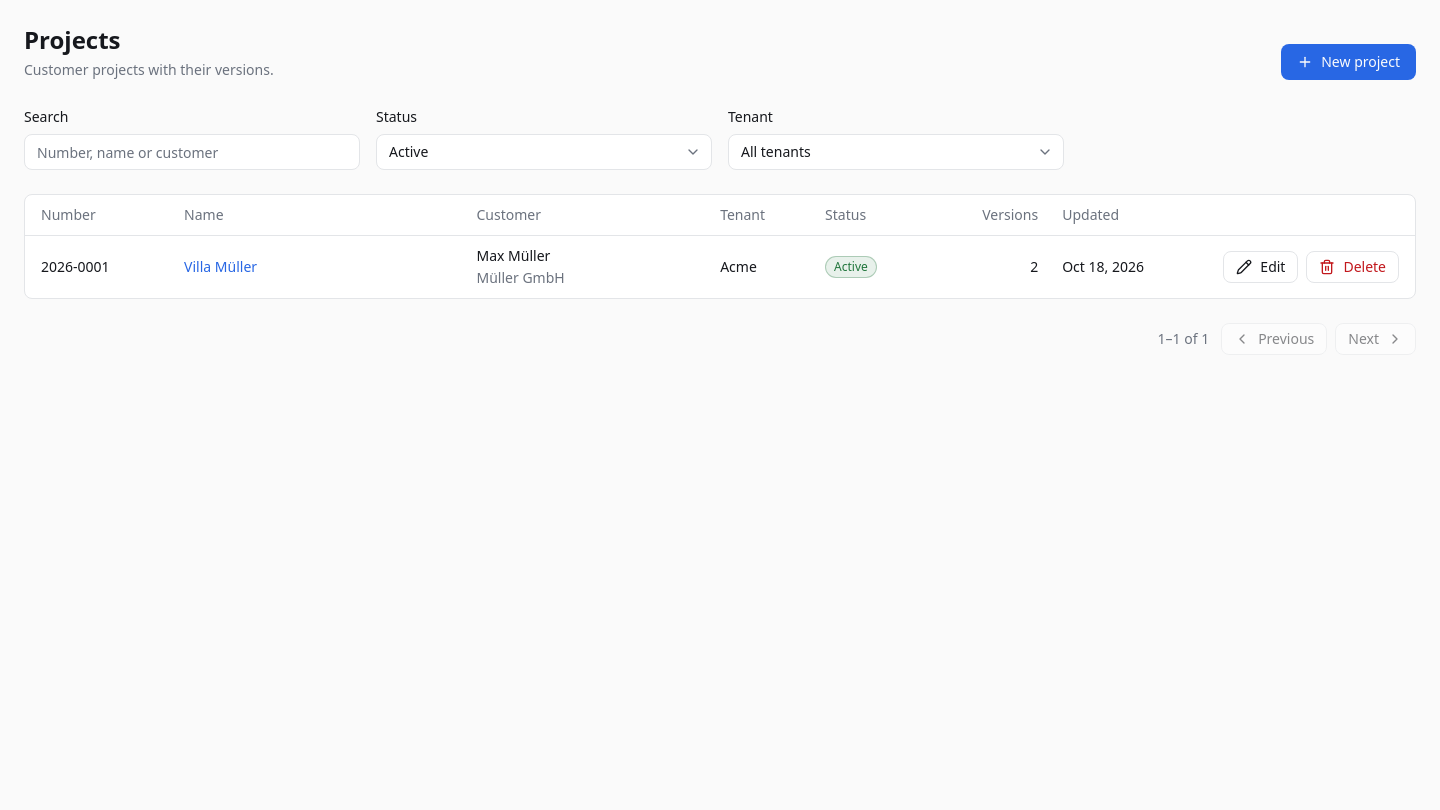
ProjectsPage › deletes a project after asking
Click the button "Delete".
click(1353, 267)  # box [1306,251,1399,283]
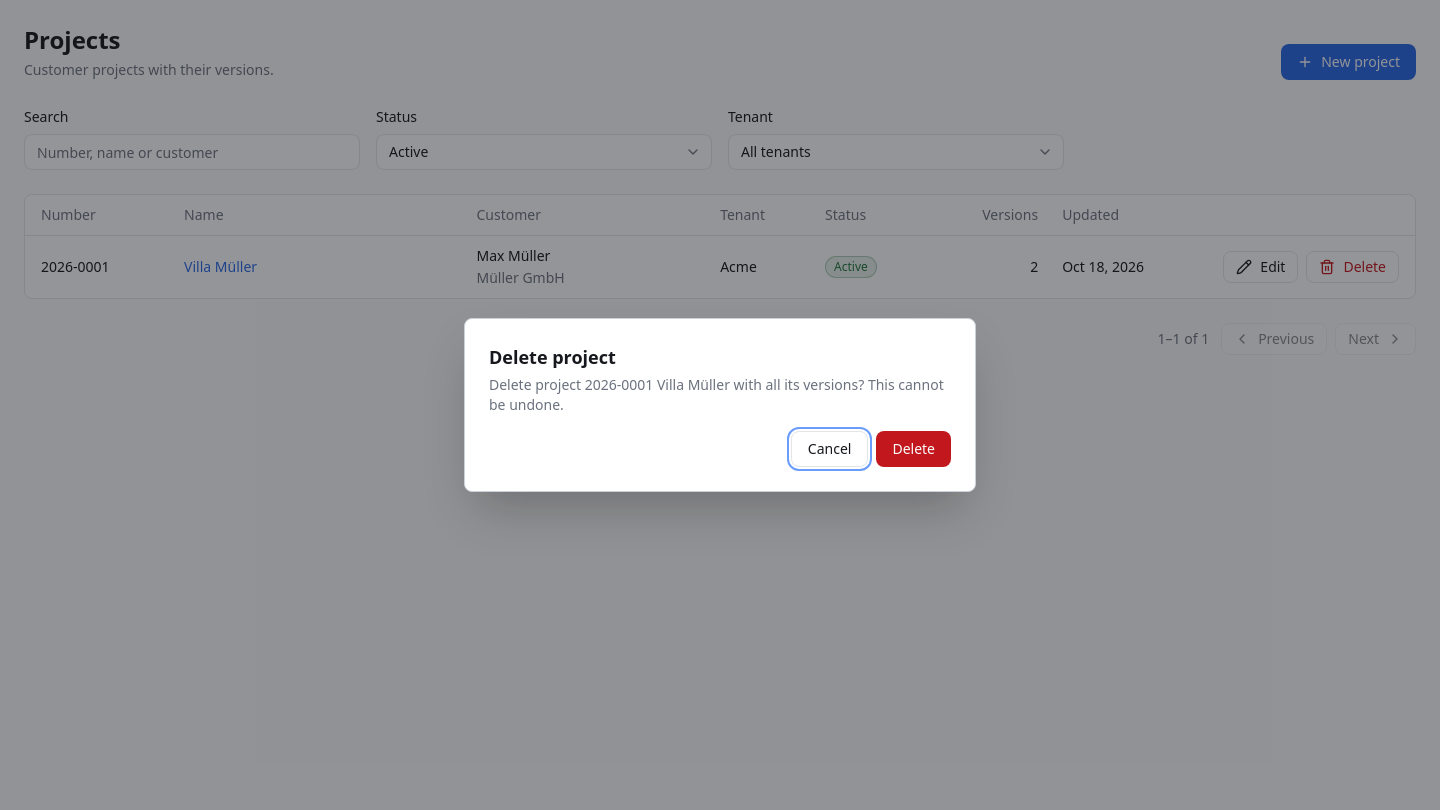
Result: the dialog "Delete project" shows "Delete project 2026-0001 Villa Müller with all its versions?" at [489,375,944,414]
Click the button "Delete".
click(914, 449)  # box [876,431,951,467]
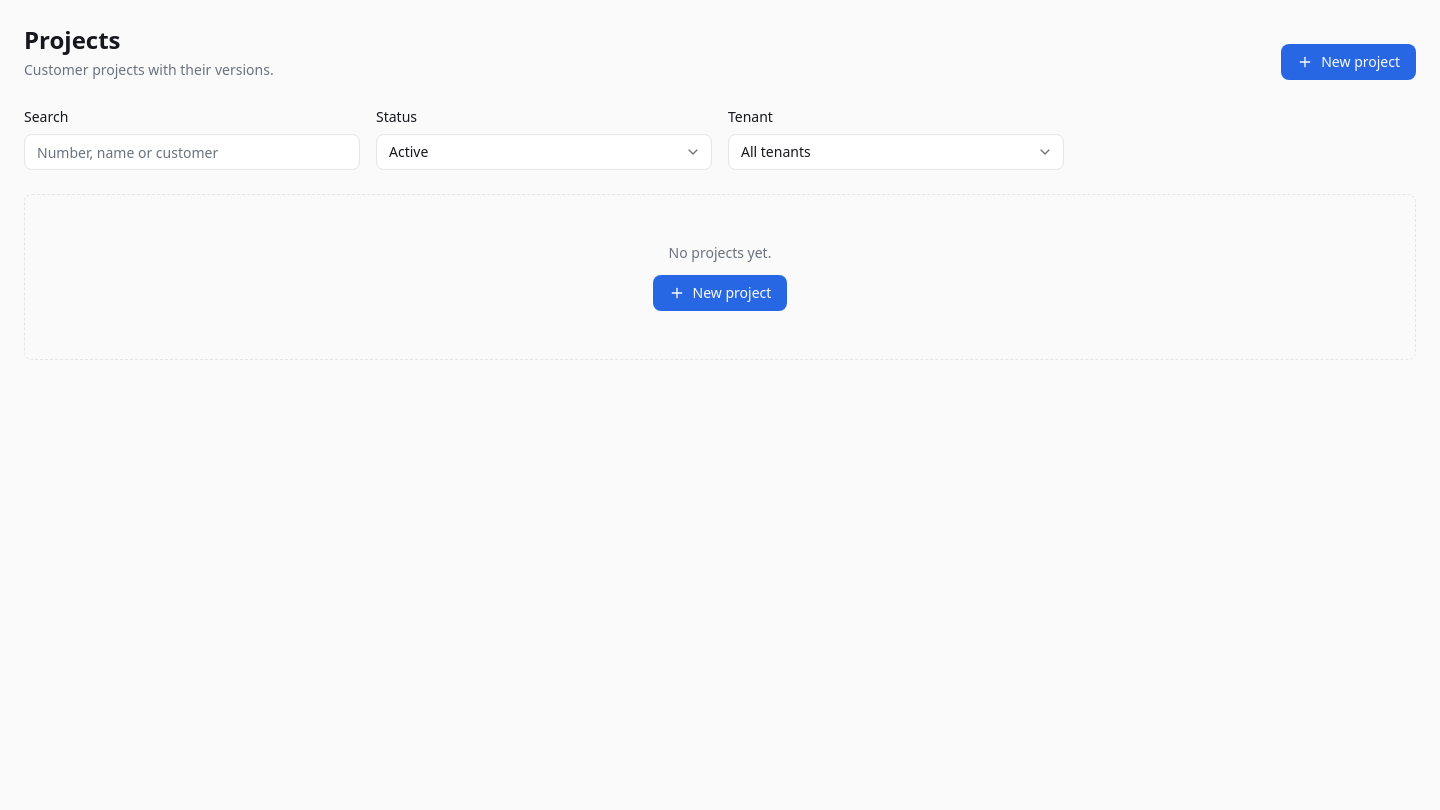
Result: the text "No projects yet." is shown at [669,243,771,263]
